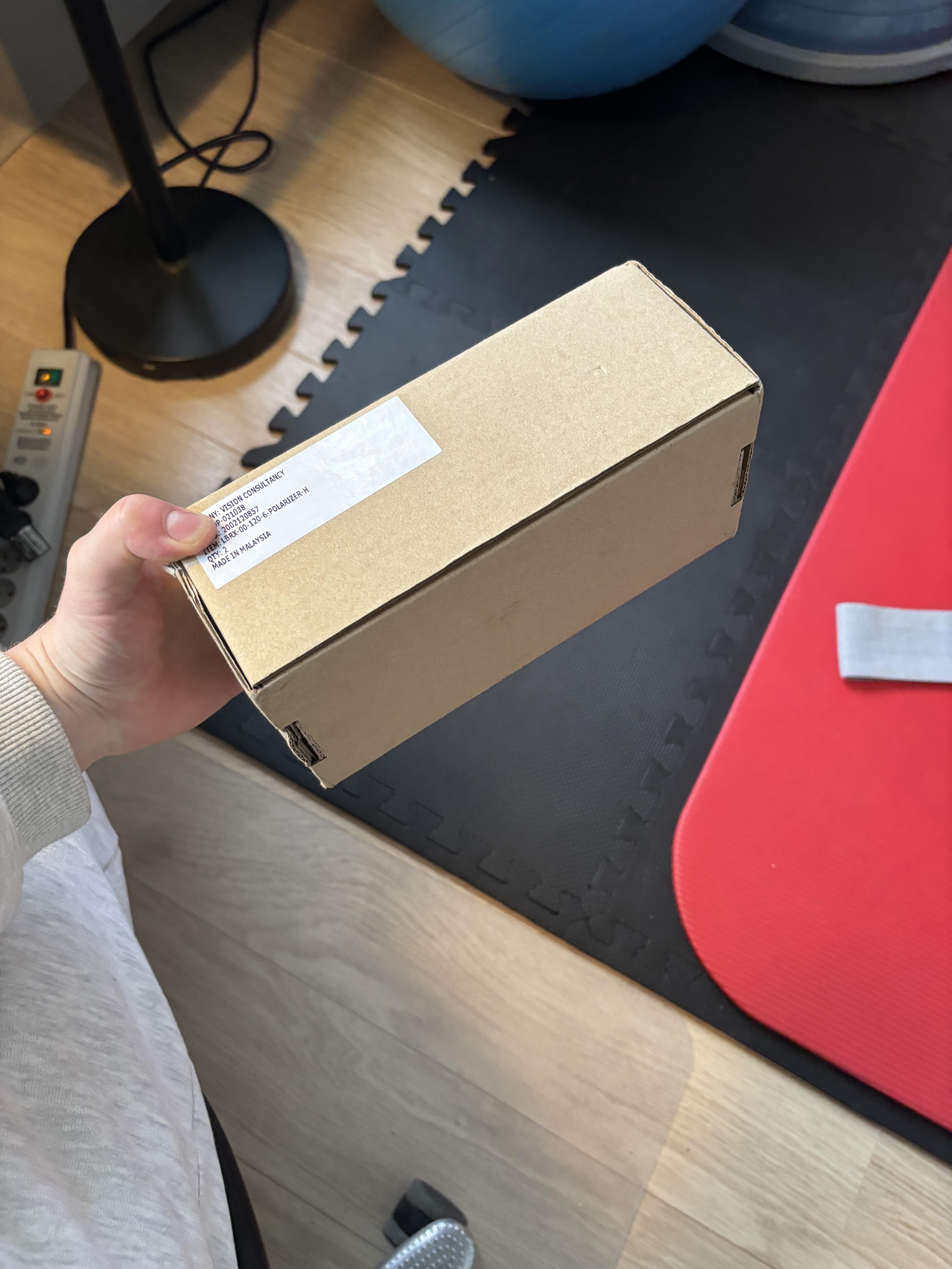Cardboard: (160, 249, 755, 799)
